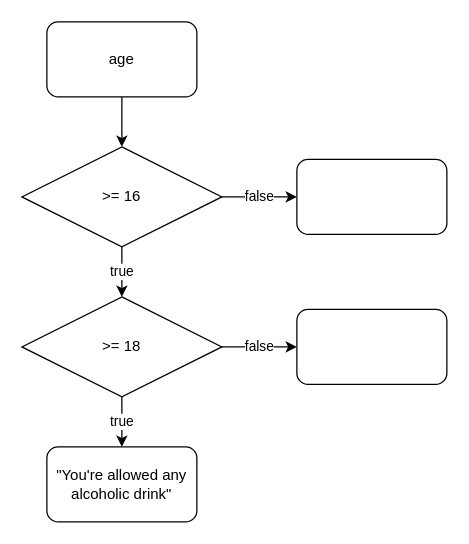
Image size: 469x544. Some labels were removed from this diagram. The shapes that lost their labels are listed below. From the top down, each one's box as (x1, y1, x2, y2) in pixels, then its label:
(296, 158, 447, 234): "You're not allowed to drink"
(296, 308, 447, 384): "You're allowed to drink beer and wine"
